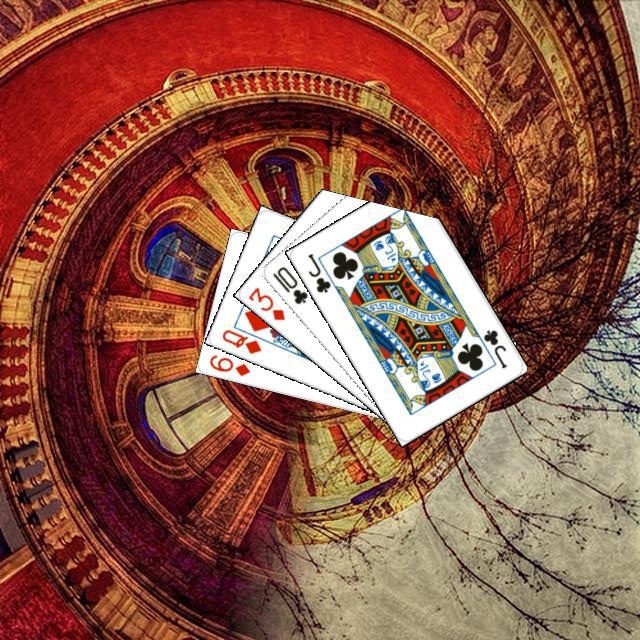10c: (267, 261, 309, 306)
3d: (243, 282, 287, 322)
6d: (204, 350, 252, 378)
Jc: (303, 248, 333, 295), (478, 325, 508, 370)
Qd: (217, 324, 263, 356)
